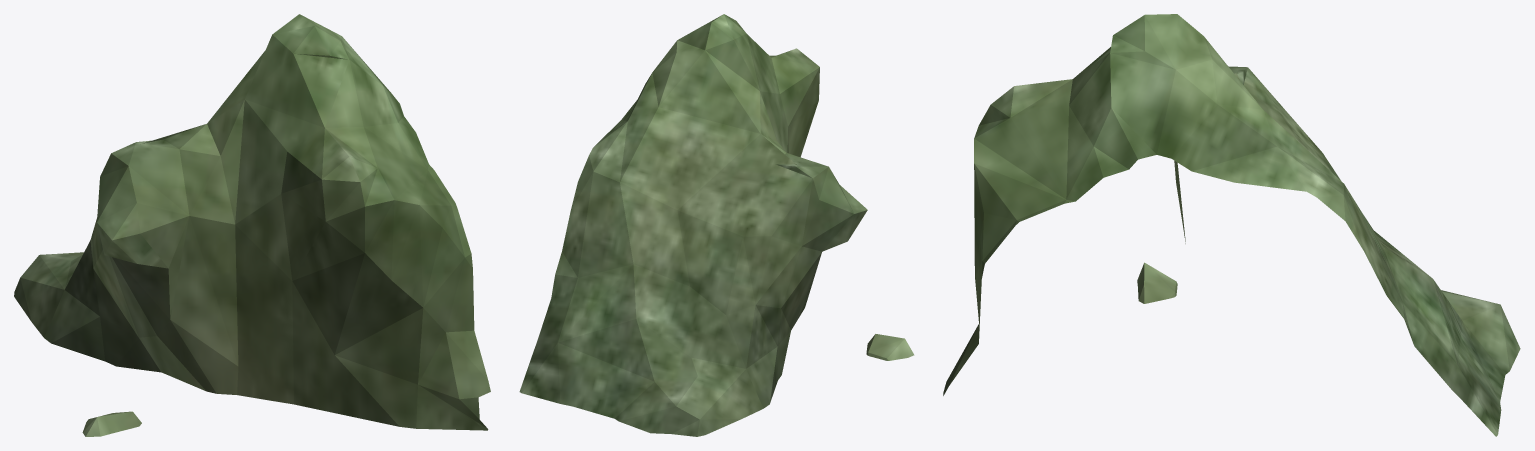
3 views of the same model, side by side, from view 1: azimuth 30°, elevation 25°; view 2: azimuth 150°, elevation 25°; view 3: azimuth 270°, elevation 25° (orthographic). The views are drawn at different scales.
Bounding box in the file's own units: 0.9101 × 0.9938 × 1.37.
Materials: 1 (1 with a texture image).
